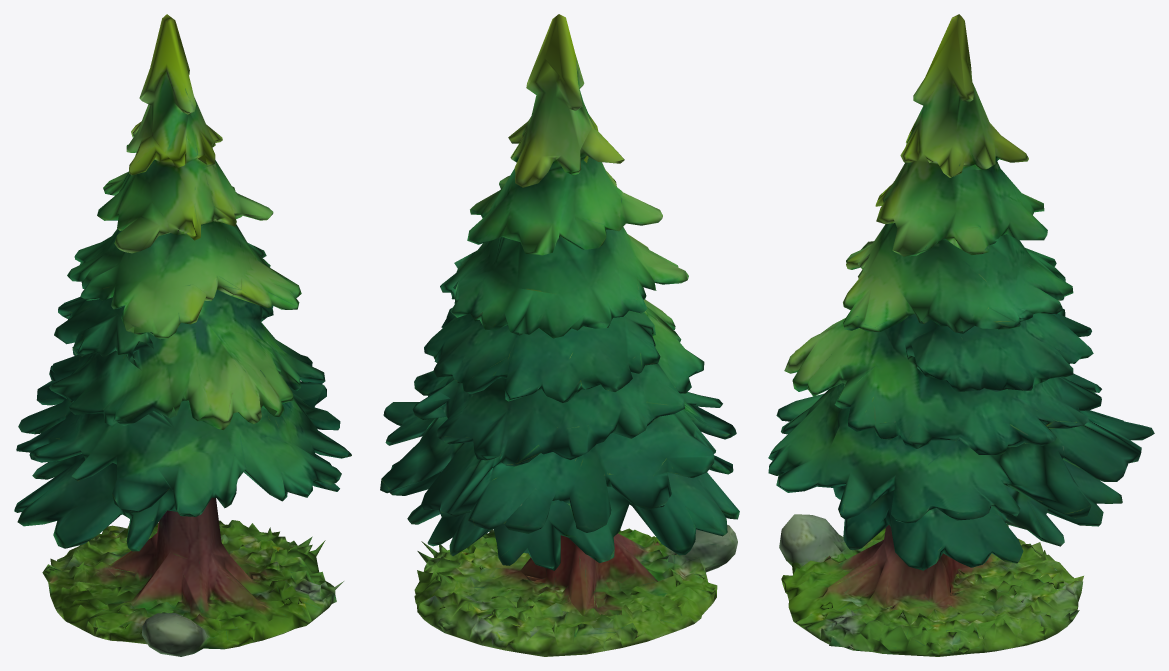
File: treeB01.fbx
3 views of the same model, side by side, from view 1: azimuth 30°, elevation 25°; view 2: azimuth 150°, elevation 25°; view 3: azimuth 270°, elevation 25° (orthographic). The views are drawn at different scales.
Visible parts, largest first — view 1: treeB01; view 2: treeB01; view 3: treeB01.
Part boxes in pixels (box(x1,y1,x2,y2)): treeB01: box(14, 14, 351, 656); treeB01: box(380, 14, 739, 656); treeB01: box(768, 14, 1154, 656).
Size of the model in its own units: 67.77 by 117 by 70.35.
Materials: 1 (1 with a texture image).
